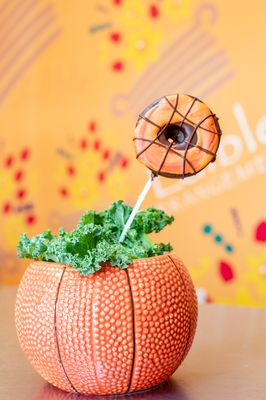curry: (15, 200, 176, 275)
